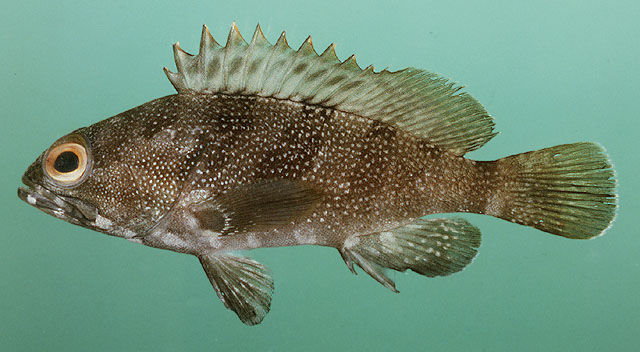fish: (17, 20, 621, 326)
